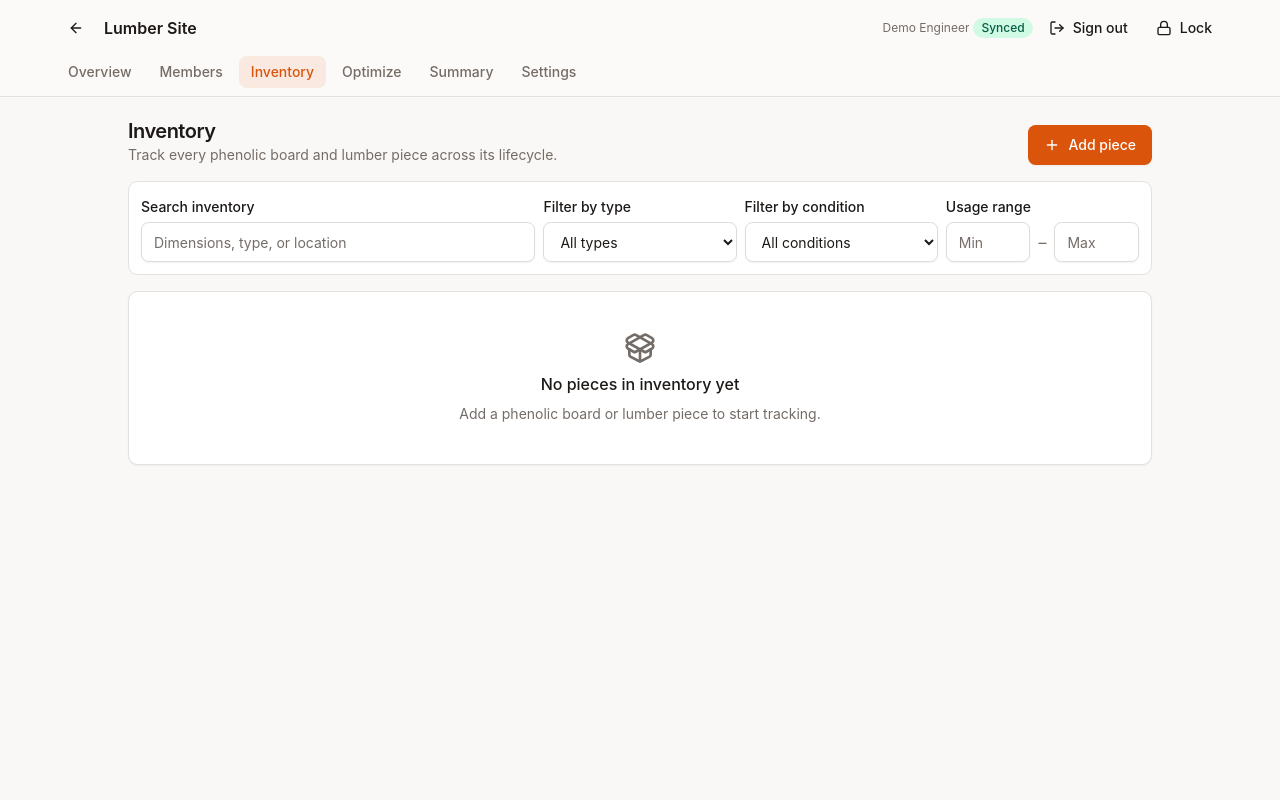
Test: ProjectInventoryScreen search, filter, and sort › adds a lumber piece with length and cross-section
This screenshot has width=1280, height=800.
Expected: the heading "Inventory" is shown, [128, 119, 215, 143]
Click the button "Add piece" at (1090, 145), box [1028, 125, 1152, 165]
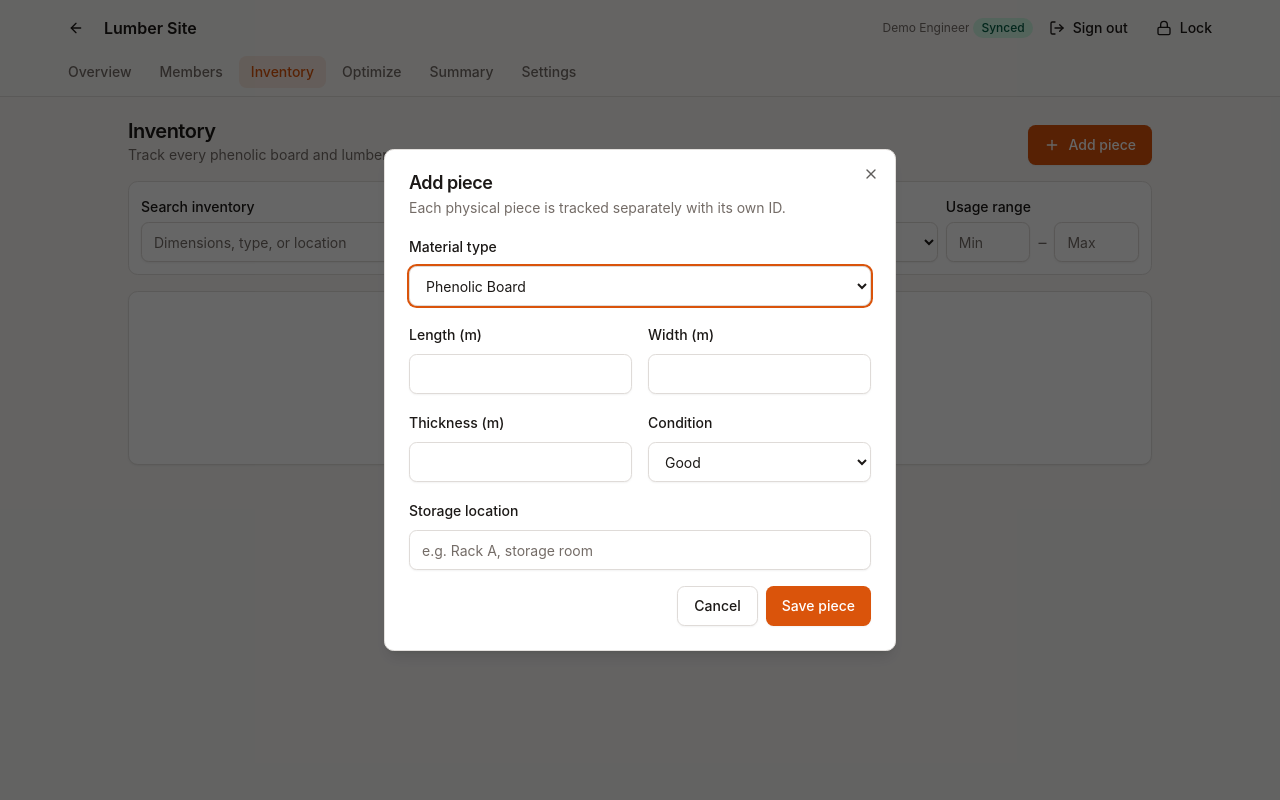
Select "Lumber" in the dropdown labelled "Material type" at (640, 286), box [409, 266, 871, 306]
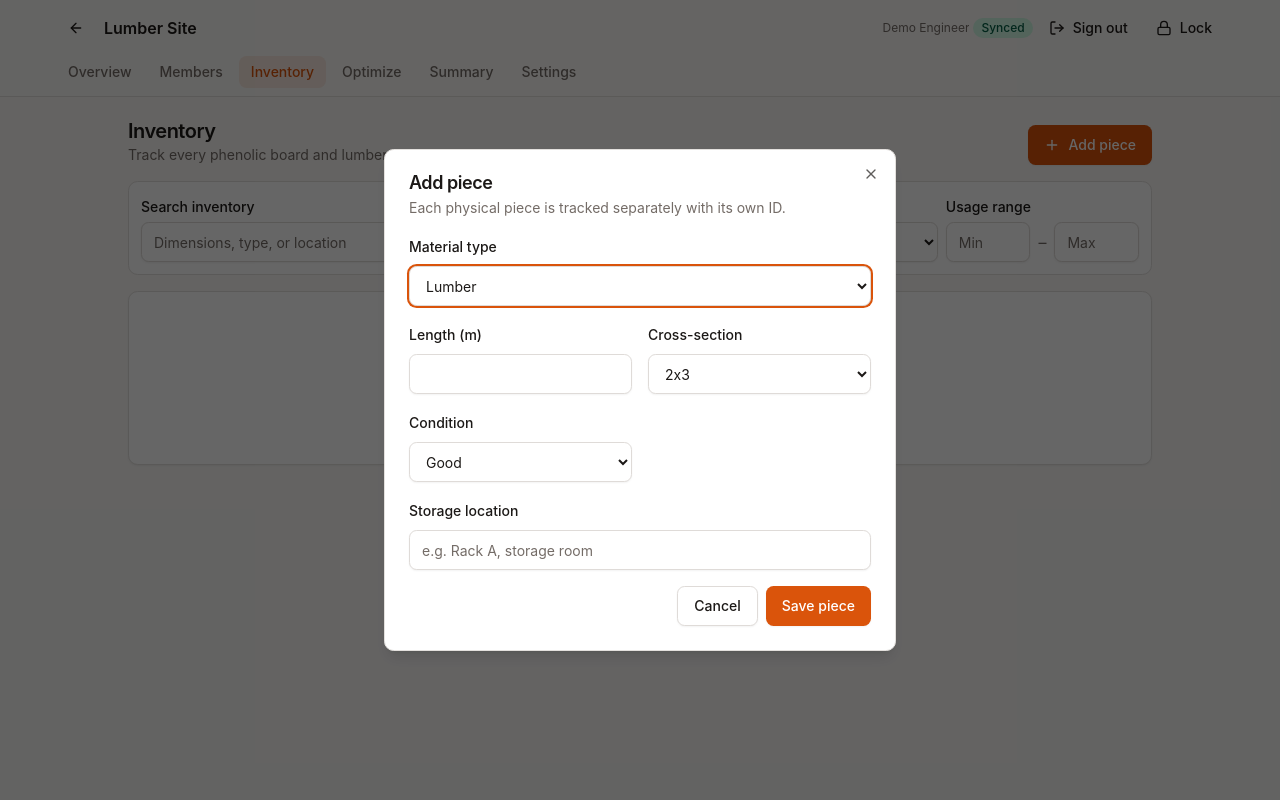
Type "3.6" into the number field labelled "Length (m)" at (520, 374), box [409, 354, 632, 394]
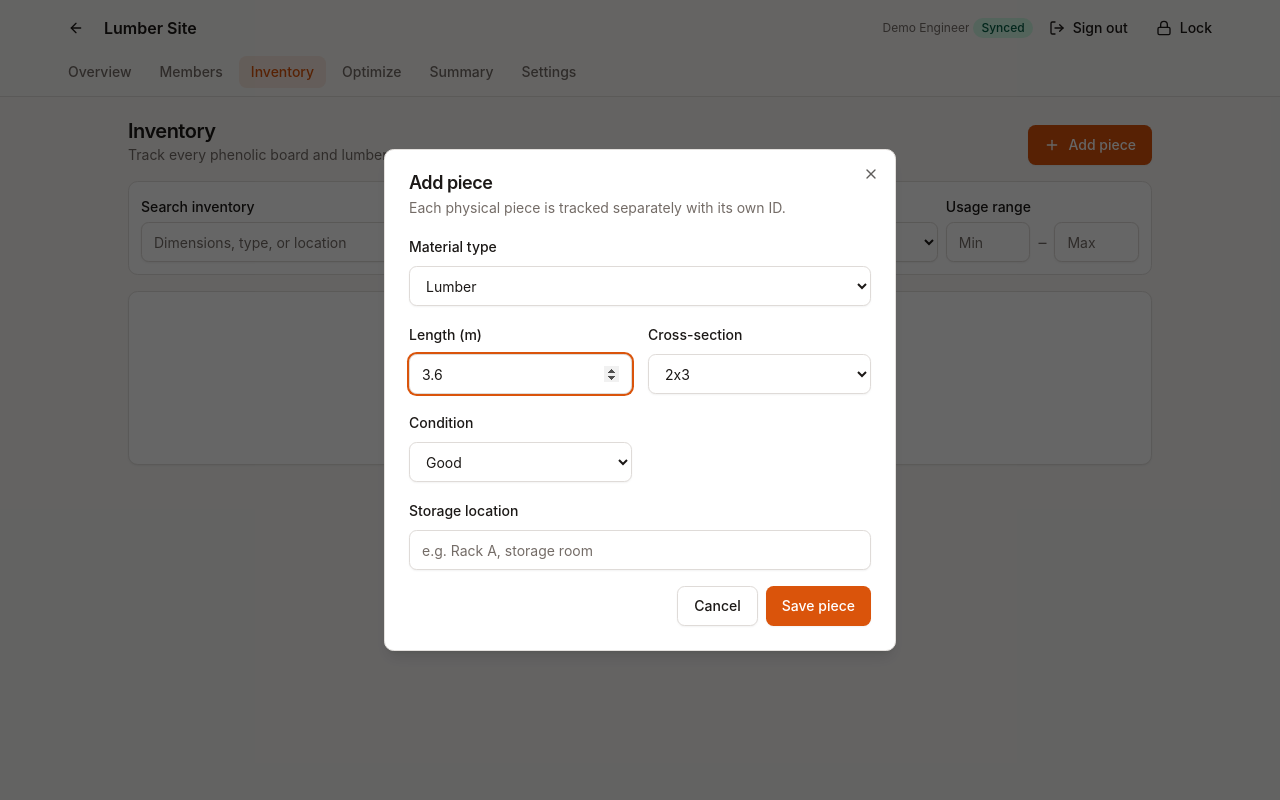
Select "2x4" in the dropdown labelled "Cross-section" at (760, 374), box [648, 354, 871, 394]
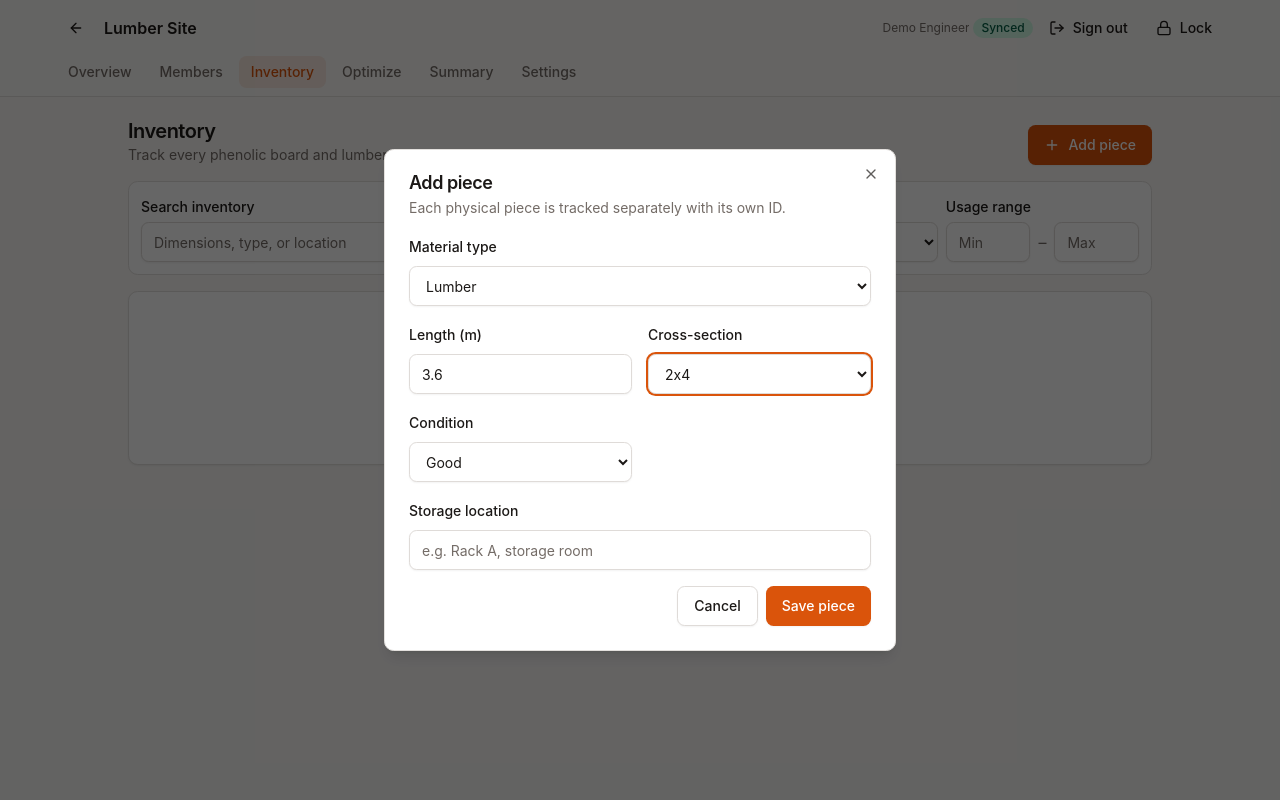
Type "Rack D" into the field labelled "Storage location" at (640, 550), box [409, 530, 871, 570]
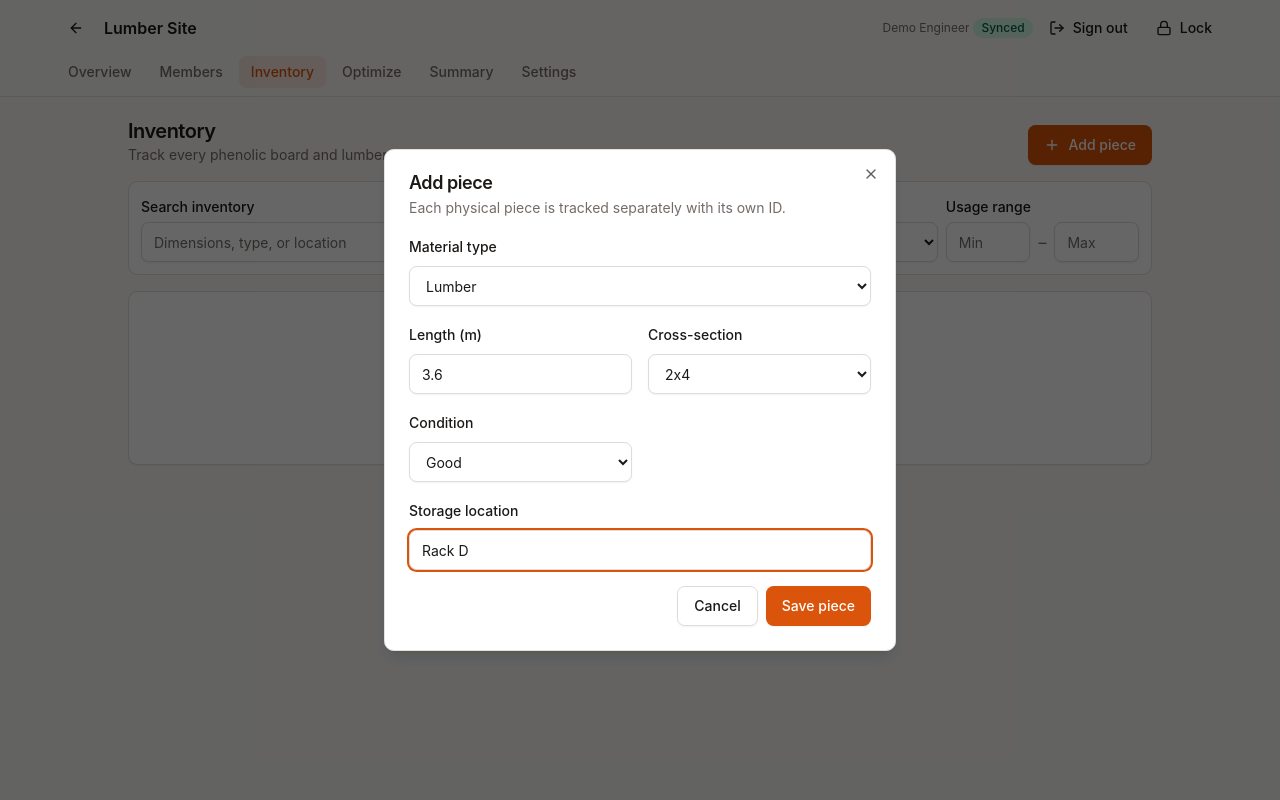
Click the button "Save piece" at (818, 606), box [766, 586, 871, 626]
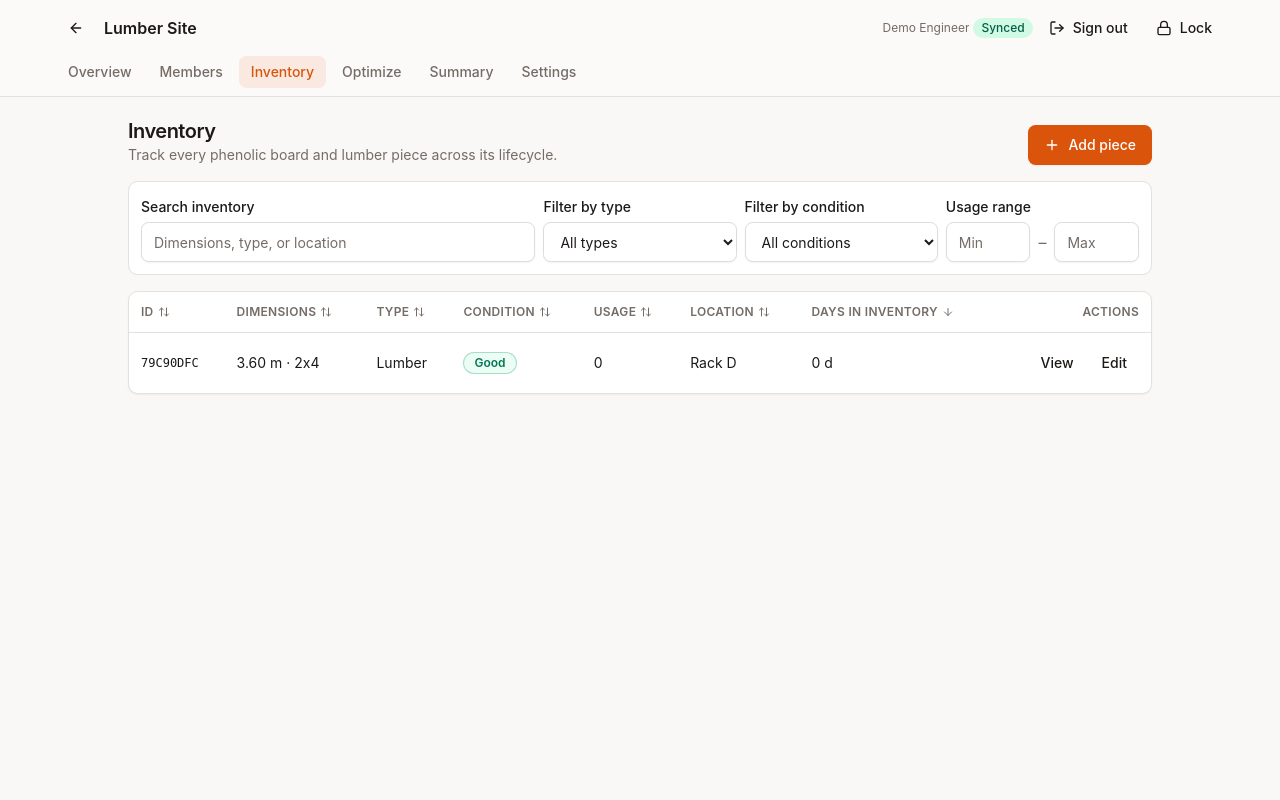
Expected: the text "Lumber" is shown, [364, 332, 452, 392]
Expected: the text "3.60 m · 2x4" is shown, [225, 332, 364, 392]
